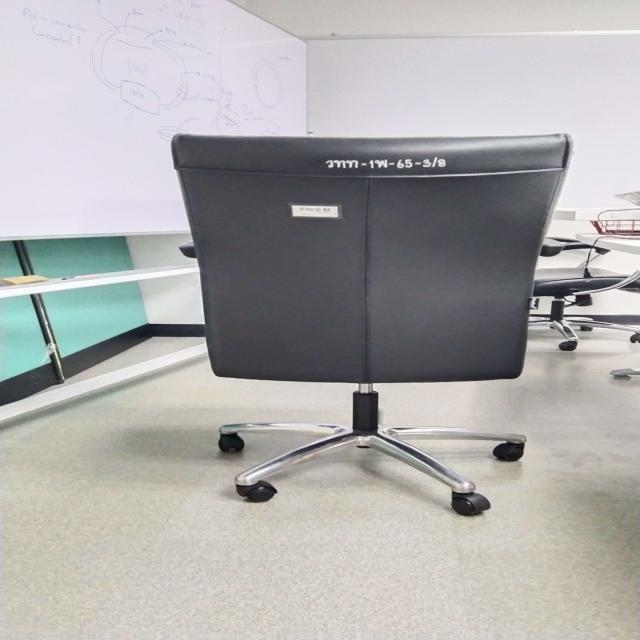chair: (150, 120, 582, 524), (148, 121, 580, 524)
